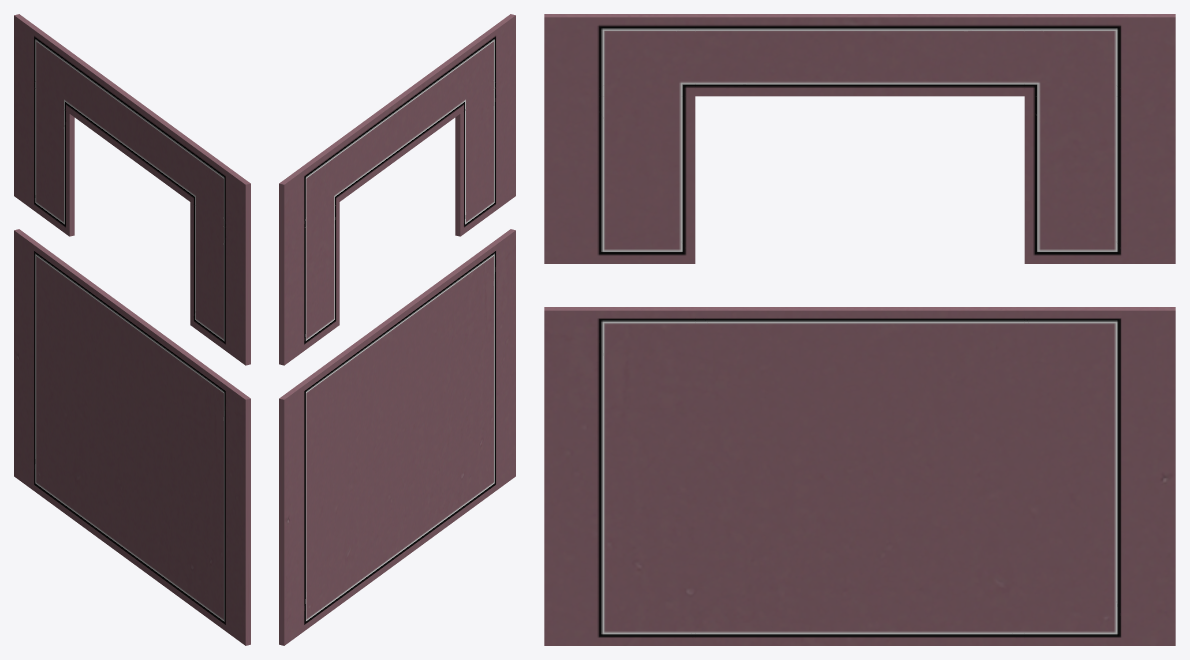
The model's file is SM_GJJ_HG_Wall02D.fbx.
3 views of the same model, side by side, from view 1: azimuth 30°, elevation 25°; view 2: azimuth 150°, elevation 25°; view 3: azimuth 270°, elevation 25° (orthographic). The views are drawn at different scales.
Visible parts, largest first — view 1: SM_GJJ_HG_Wall02D; view 2: SM_GJJ_HG_Wall02D; view 3: SM_GJJ_HG_Wall02D.
Part boxes in pixels (x1,y1,x2,y2): SM_GJJ_HG_Wall02D: [14, 14, 250, 645]; SM_GJJ_HG_Wall02D: [279, 14, 515, 645]; SM_GJJ_HG_Wall02D: [544, 14, 1175, 645].
Bounding box in the file's own units: 4 × 307 × 337.
Materials: 1 (1 with a texture image).
